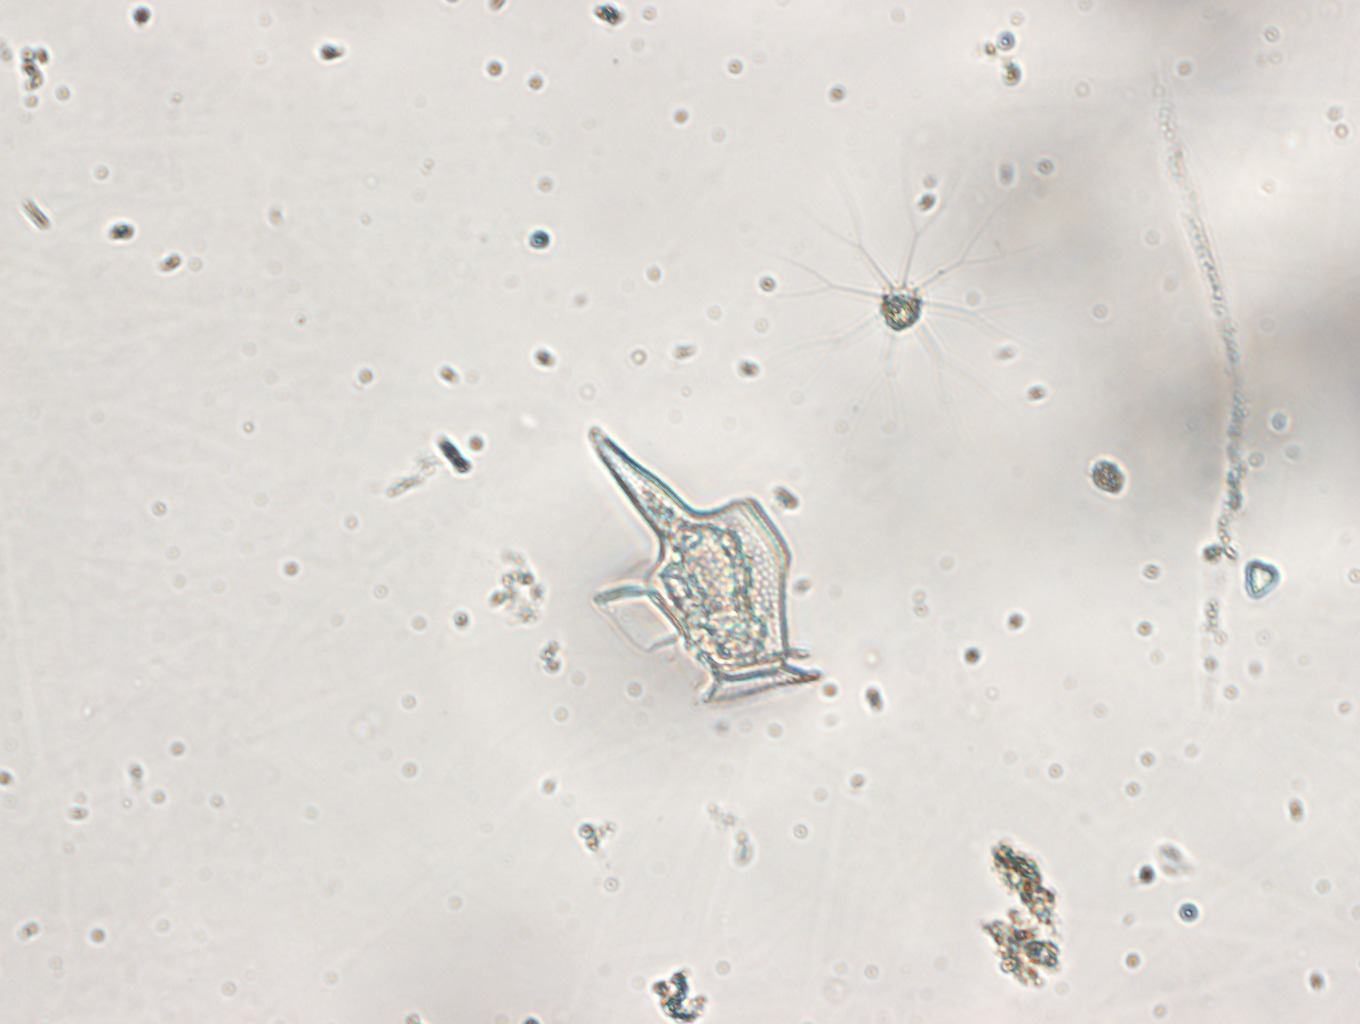bacteriastrum: (758, 151, 1060, 436)
dinophysis caudata: (574, 419, 824, 706)
